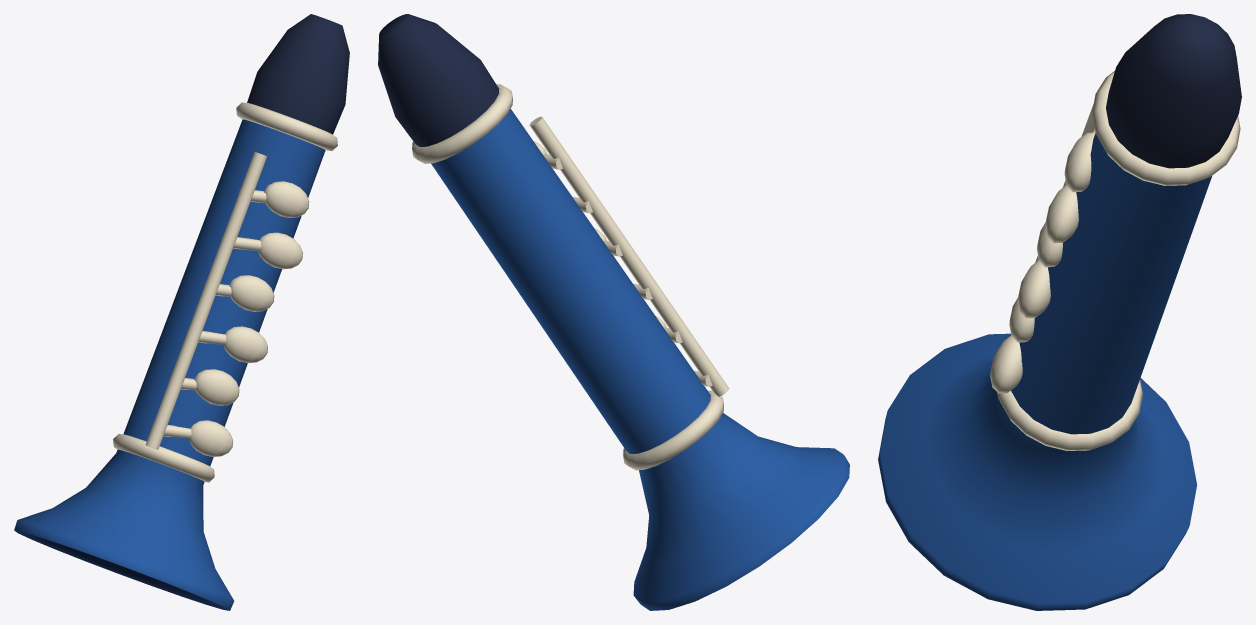
Rendered from clarinet.glb.
The picture shows the model from 3 angles, left to right: view 1: azimuth 30°, elevation 25°; view 2: azimuth 150°, elevation 25°; view 3: azimuth 270°, elevation 25°; orthographic projection. The views are drawn at different scales.
Parts seen in each view (by area): view 1: clarinet; view 2: clarinet; view 3: clarinet.
Boxes of the visible parts, bbox=[...] form: clarinet: bbox=[14, 14, 349, 610]; clarinet: bbox=[378, 14, 849, 610]; clarinet: bbox=[878, 14, 1241, 610].
Bounding box in the file's own units: 0.692 × 0.9328 × 0.4321.
